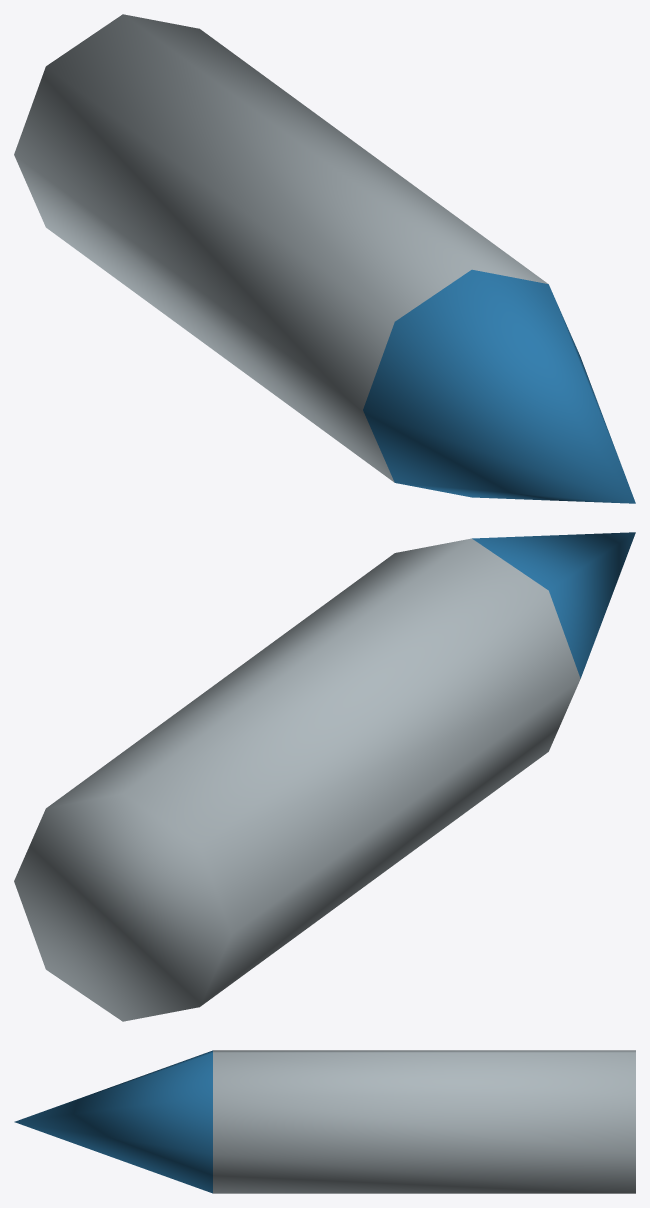
Rendered from cannon_20_projectile_game.glb.
3 renders of one model, top to bottom at view 1: azimuth 30°, elevation 25°; view 2: azimuth 150°, elevation 25°; view 3: azimuth 270°, elevation 25°, orthographic. The views are drawn at different scales.
Parts seen in each view (by area): view 1: AMMO_MESH.019; view 2: AMMO_MESH.019; view 3: AMMO_MESH.019.
Part boxes in pixels (bbox=[...]): AMMO_MESH.019: bbox=[14, 14, 635, 503]; AMMO_MESH.019: bbox=[14, 532, 635, 1021]; AMMO_MESH.019: bbox=[14, 1050, 635, 1193].
Size of the model in its own units: 0.0196 by 0.0196 by 0.08.
